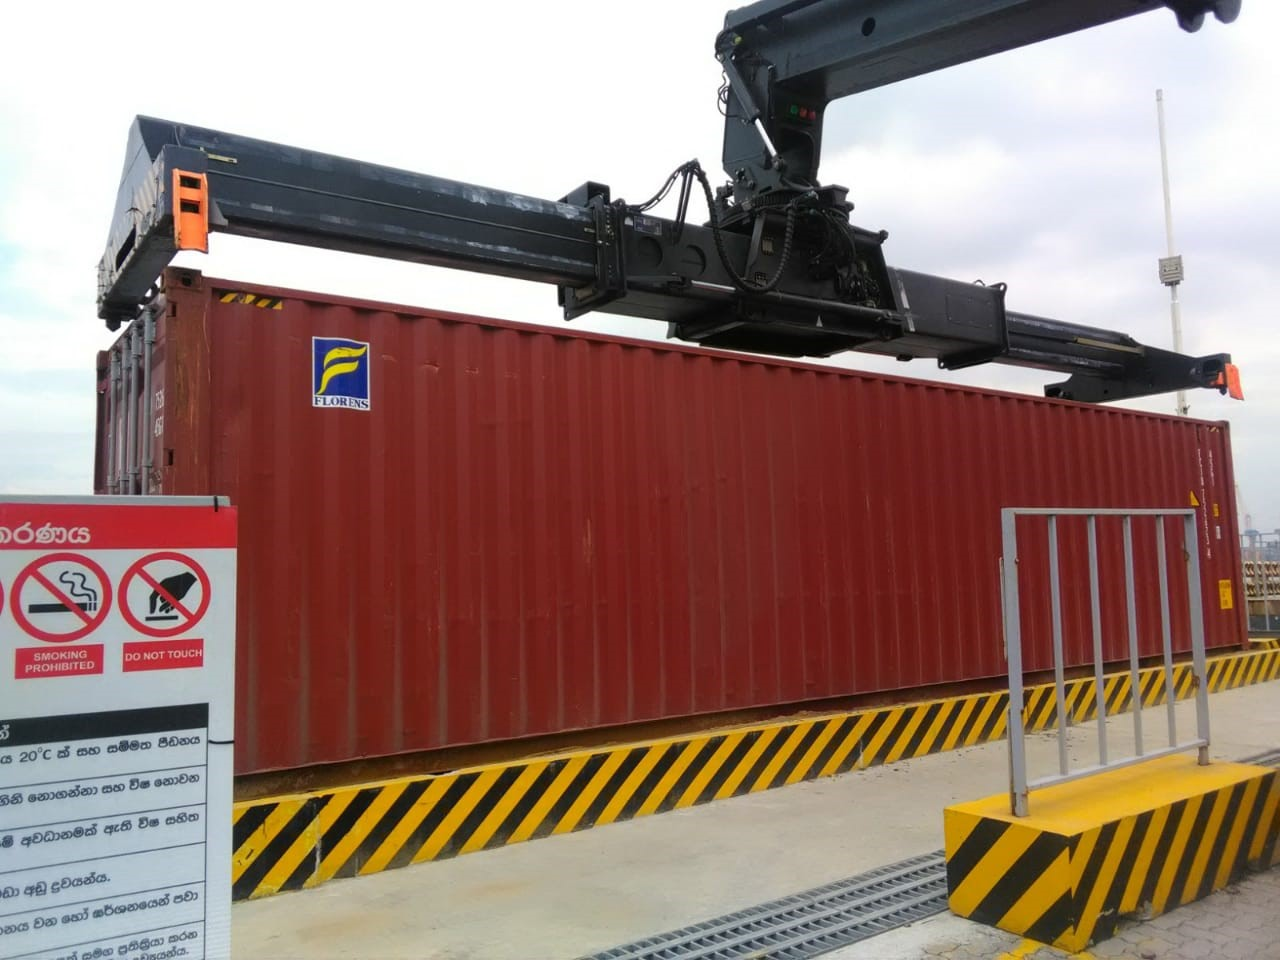minor: (403, 594, 617, 624), (455, 408, 566, 442), (766, 584, 941, 603), (645, 475, 730, 503), (228, 460, 281, 484)
